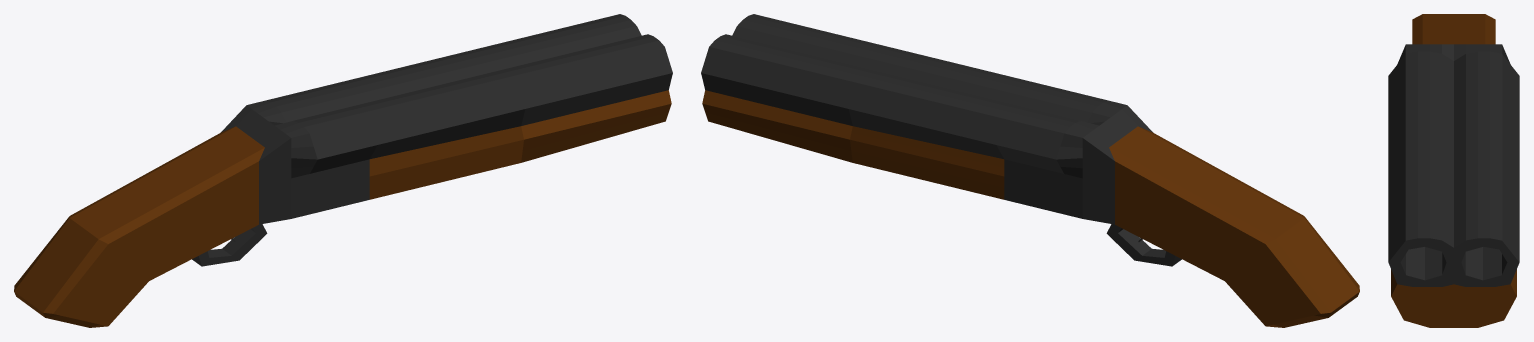
File: SawedOff.glb
3 views of the same model, side by side, from view 1: azimuth 30°, elevation 25°; view 2: azimuth 150°, elevation 25°; view 3: azimuth 270°, elevation 25° (orthographic). The views are drawn at different scales.
Parts seen in each view (by area): view 1: Cube; view 2: Cube; view 3: Cube.
Part boxes in pixels (x1=…): Cube: x1=14, y1=14, x2=672, y2=327; Cube: x1=701, y1=14, x2=1359, y2=327; Cube: x1=1388, y1=14, x2=1519, y2=327.
Size of the model in its own units: 18.34 by 4.33 by 3.15.
